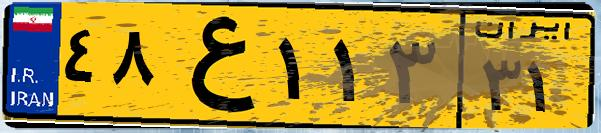1: (270, 28, 330, 110), (330, 28, 385, 110), (525, 38, 570, 115)
3: (385, 28, 445, 110), (475, 38, 525, 113)
4: (57, 26, 110, 100)
8: (110, 28, 158, 98)
ع: (158, 12, 270, 120)
